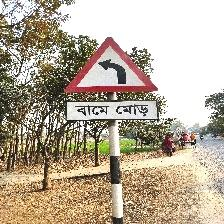Left-Turn: (63, 36, 161, 125)
